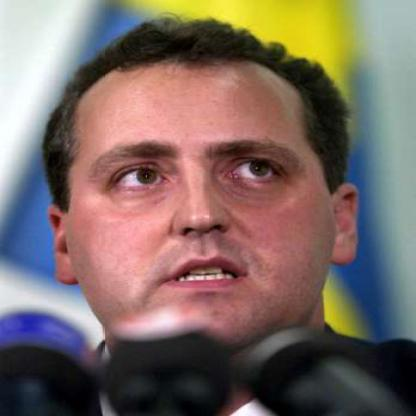face: (58, 40, 336, 361)
